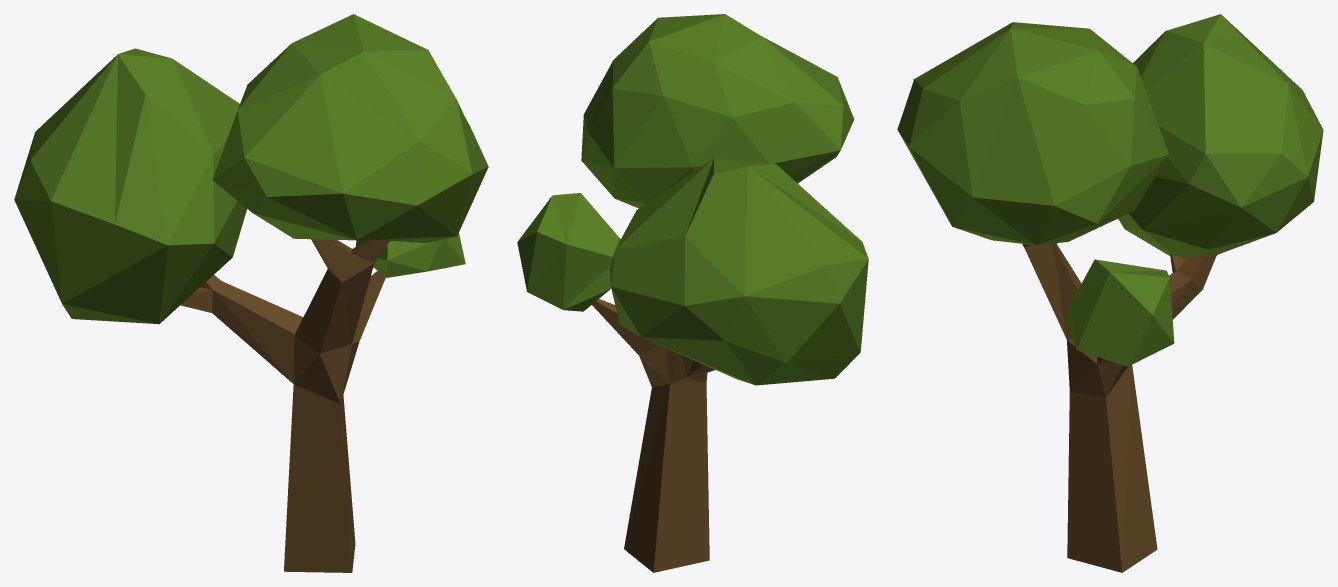
File: temp-decid.average.darkgreen-op0.7.gltf
The picture shows the model from 3 angles, left to right: view 1: azimuth 30°, elevation 25°; view 2: azimuth 150°, elevation 25°; view 3: azimuth 270°, elevation 25°; orthographic projection. The views are drawn at different scales.
Visible parts, largest first — view 1: Tree1_3; view 2: Tree1_3; view 3: Tree1_3.
Part boxes in pixels (left/top/right/bottom): Tree1_3: left=14, top=14, right=488, bottom=572; Tree1_3: left=517, top=14, right=868, bottom=572; Tree1_3: left=897, top=14, right=1323, bottom=572.
Bounding box in the file's own units: 3.28 × 4.43 × 3.29.
Materials: 1 (1 with a texture image).
